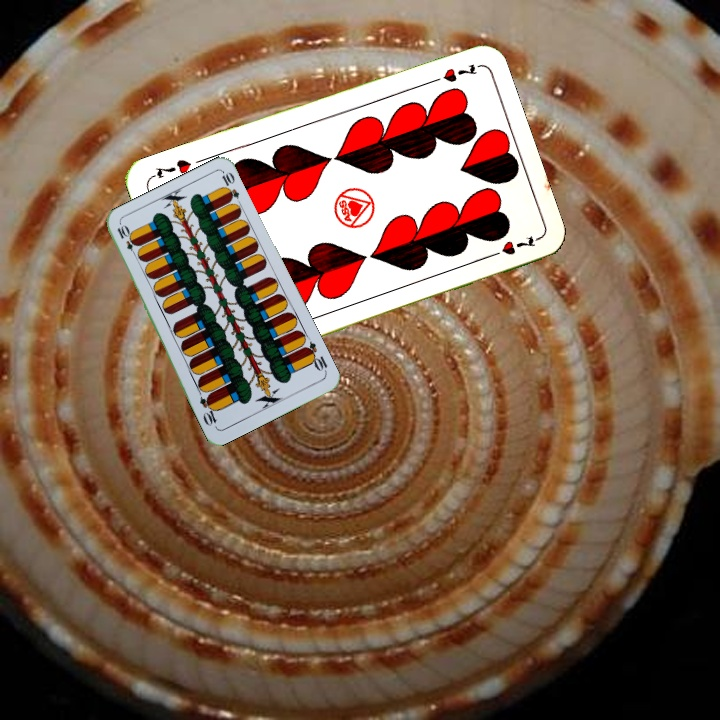E10: (300, 338, 330, 376), (113, 221, 141, 260)
H7: (423, 59, 480, 87)
